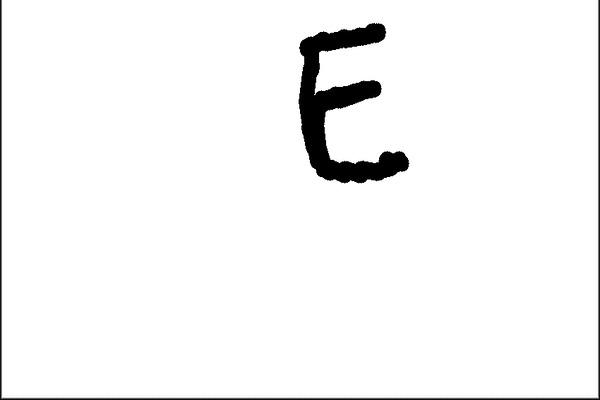E: (292, 19, 416, 183)
